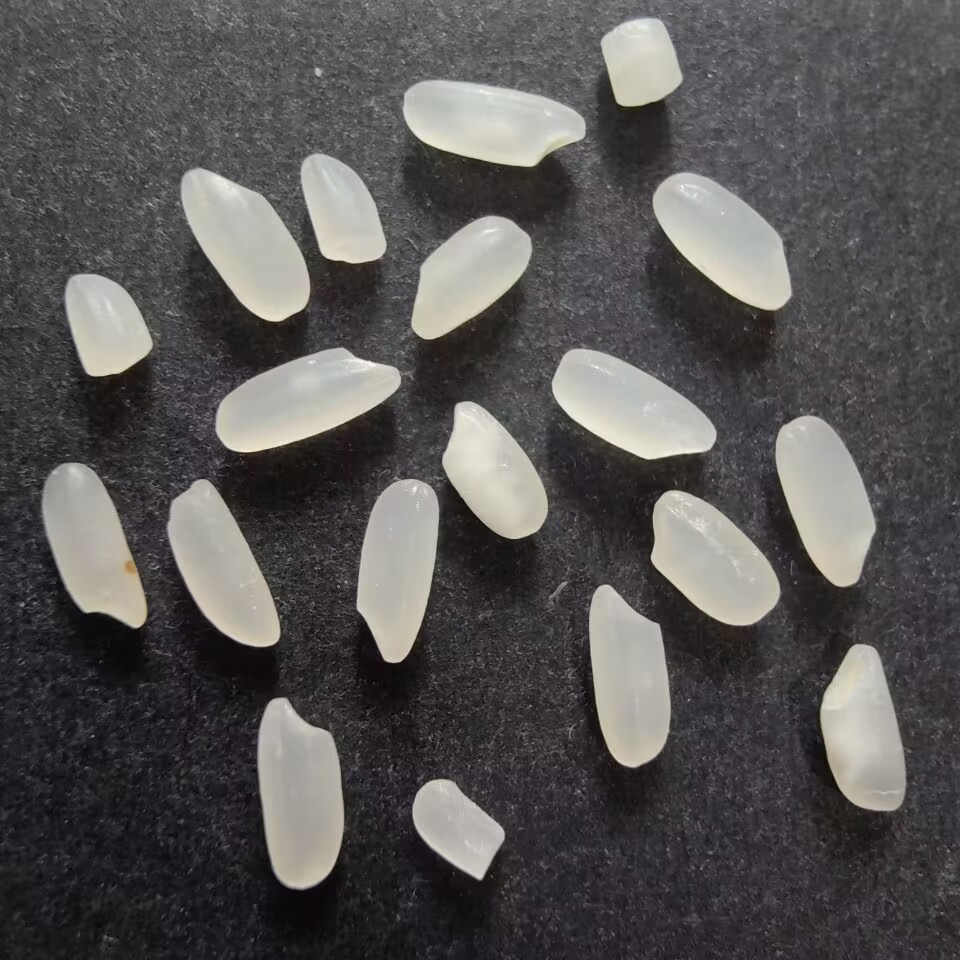broken: (294, 149, 391, 267), (58, 273, 157, 382), (411, 775, 510, 882), (598, 14, 688, 110)
rice: (163, 475, 285, 650), (178, 165, 312, 323), (213, 346, 407, 455), (650, 172, 794, 311), (646, 487, 785, 631), (551, 346, 719, 465), (775, 411, 881, 592), (255, 693, 352, 890), (350, 474, 444, 674), (39, 461, 147, 635), (401, 76, 591, 169), (585, 582, 675, 774), (407, 214, 535, 344), (817, 639, 912, 814), (440, 398, 547, 541)
